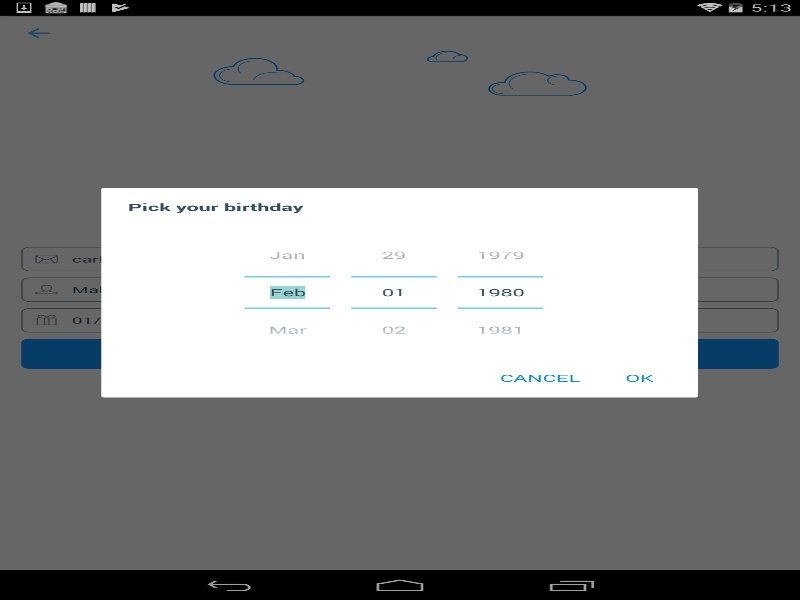Button: (484, 361, 596, 395), (244, 236, 330, 277), (244, 307, 330, 348), (351, 236, 436, 277), (351, 307, 436, 348), (458, 236, 543, 277), (458, 307, 543, 348), (596, 361, 682, 395)
Input: (244, 277, 330, 307), (351, 277, 436, 307), (458, 277, 543, 307)
